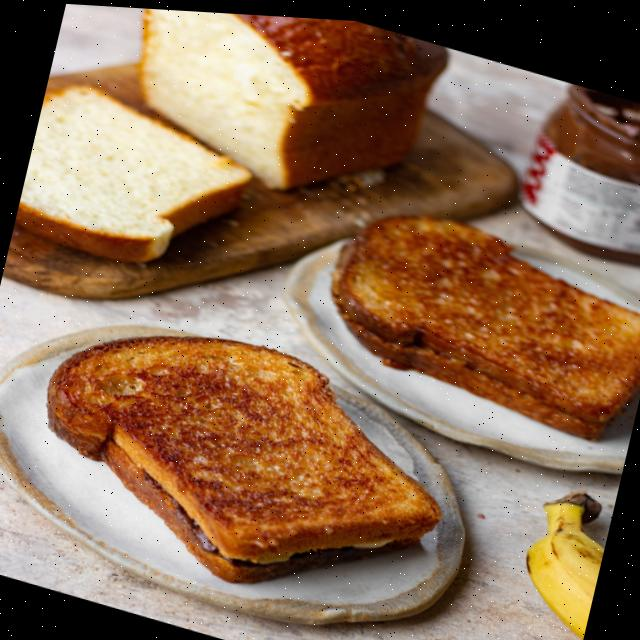Bread: (46, 333, 441, 580), (331, 211, 640, 431), (139, 7, 448, 185), (16, 84, 250, 260)
